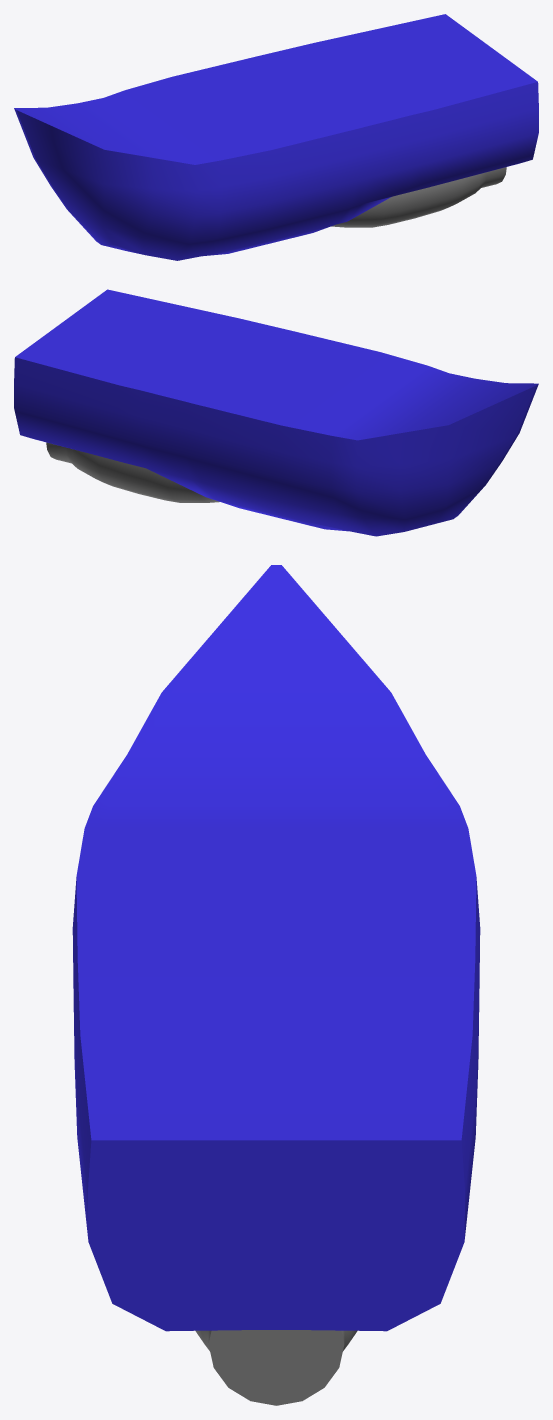
The model's file is DriftBoathullv2.fbx.
3 renders of one model, top to bottom at view 1: azimuth 30°, elevation 25°; view 2: azimuth 150°, elevation 25°; view 3: azimuth 270°, elevation 25°, orthographic. The views are drawn at different scales.
Parts seen in each view (by area): view 1: Cylinder.001; view 2: Cylinder.001; view 3: Cylinder.001.
Part boxes in pixels (left/top/right/bottom): Cylinder.001: left=14, top=14, right=538, bottom=260; Cylinder.001: left=14, top=289, right=538, bottom=536; Cylinder.001: left=72, top=565, right=480, bottom=1405.
Bounding box in the file's own units: 174 × 70.1 × 64.35.
